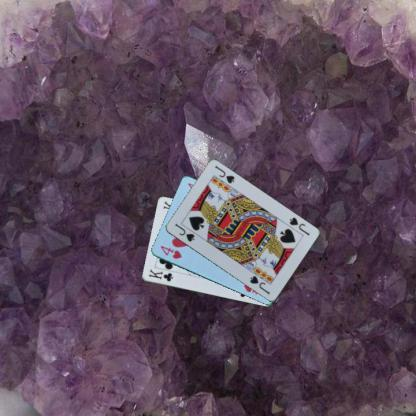4h: (158, 243, 183, 260)
Js: (286, 214, 311, 237), (172, 221, 195, 243)
Kc: (146, 266, 174, 283)
